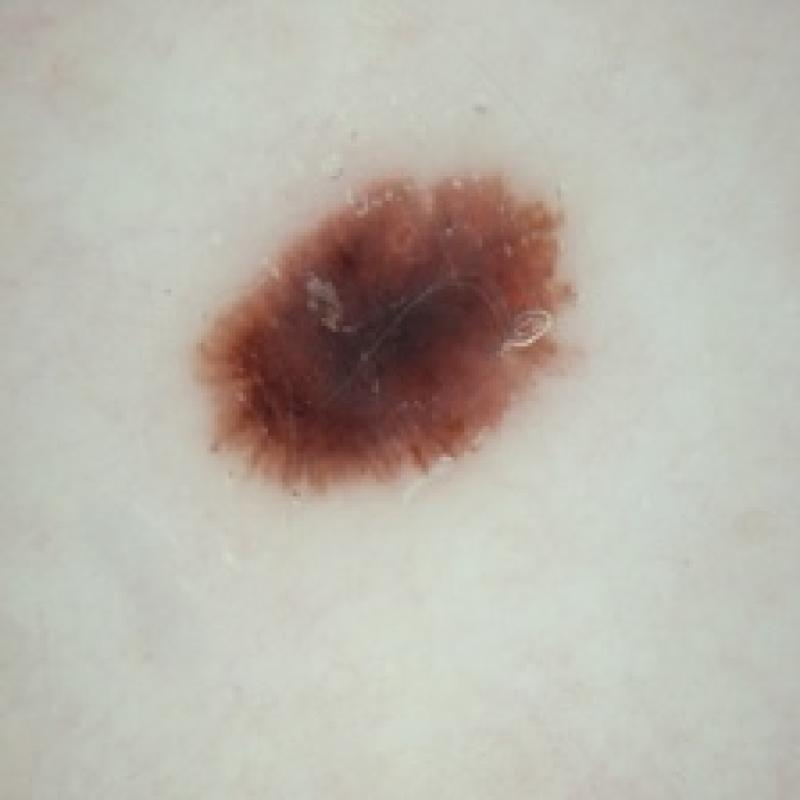malignant: (172, 148, 596, 535)
